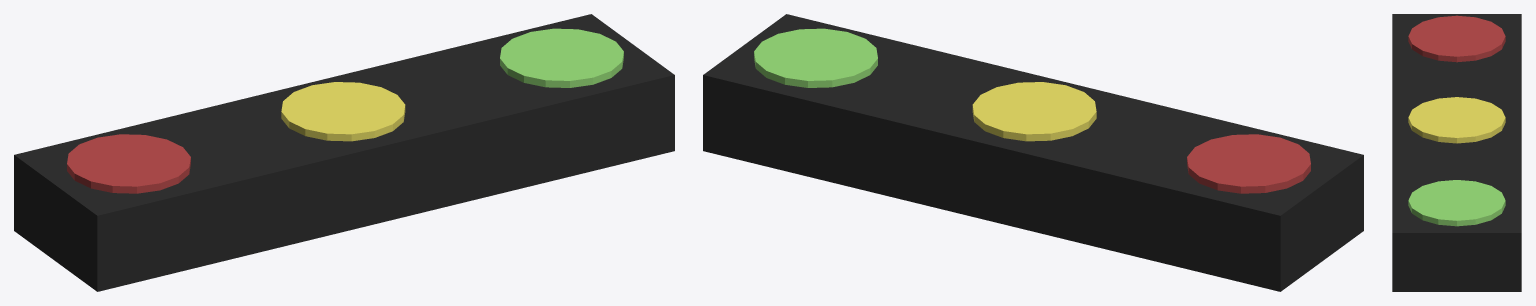
The model's file is www1.glb.
3 renders of one model, left to right at view 1: azimuth 30°, elevation 25°; view 2: azimuth 150°, elevation 25°; view 3: azimuth 270°, elevation 25°, orthographic. The views are drawn at different scales.
Parts seen in each view (by area): view 1: Cube.001; view 2: Cube.001; view 3: Cube.001.
Boxes of the visible parts, left/top/right/bottom form: Cube.001: left=14, top=14, right=674, bottom=291; Cube.001: left=703, top=14, right=1363, bottom=291; Cube.001: left=1392, top=14, right=1521, bottom=291.
Size of the model in its own units: 1.6 by 0.2203 by 0.4.
